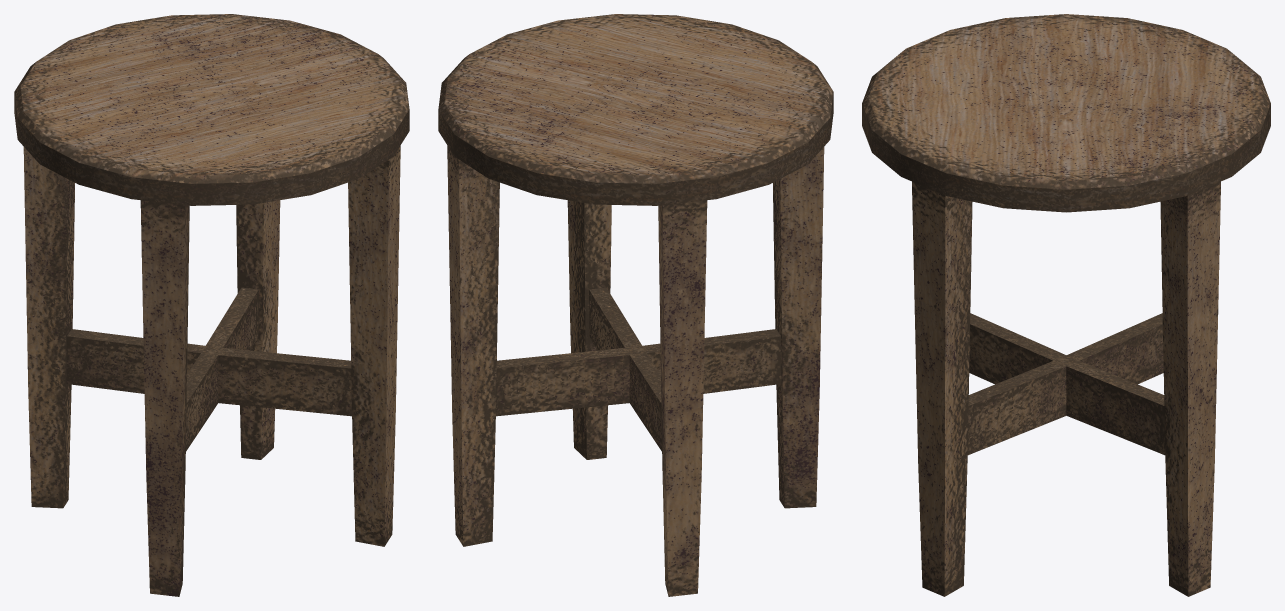
The model's file is P_Science_Chair.fbx.
3 views of the same model, side by side, from view 1: azimuth 30°, elevation 25°; view 2: azimuth 150°, elevation 25°; view 3: azimuth 270°, elevation 25° (orthographic). The views are drawn at different scales.
Parts seen in each view (by area): view 1: science_chair_GEO; view 2: science_chair_GEO; view 3: science_chair_GEO.
Part boxes in pixels (left/top/right/bottom): science_chair_GEO: left=14, top=14, right=409, bottom=596; science_chair_GEO: left=438, top=14, right=833, bottom=596; science_chair_GEO: left=862, top=14, right=1270, bottom=596.
Bounding box in the file's own units: 0.47 × 0.5558 × 0.47.
1 material, 1 textured.
